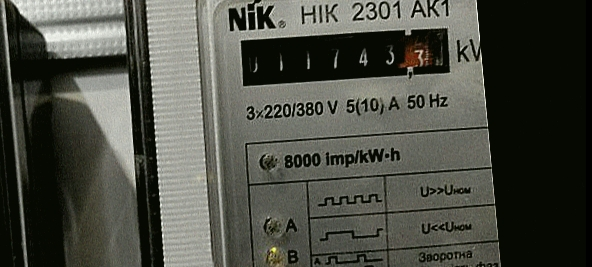0: (243, 46, 259, 74)
1: (270, 44, 286, 73), (298, 42, 313, 71)
3: (379, 39, 395, 67), (409, 46, 426, 68)
4: (353, 42, 369, 68)
7: (325, 42, 341, 69)
screen: (229, 14, 460, 98)
